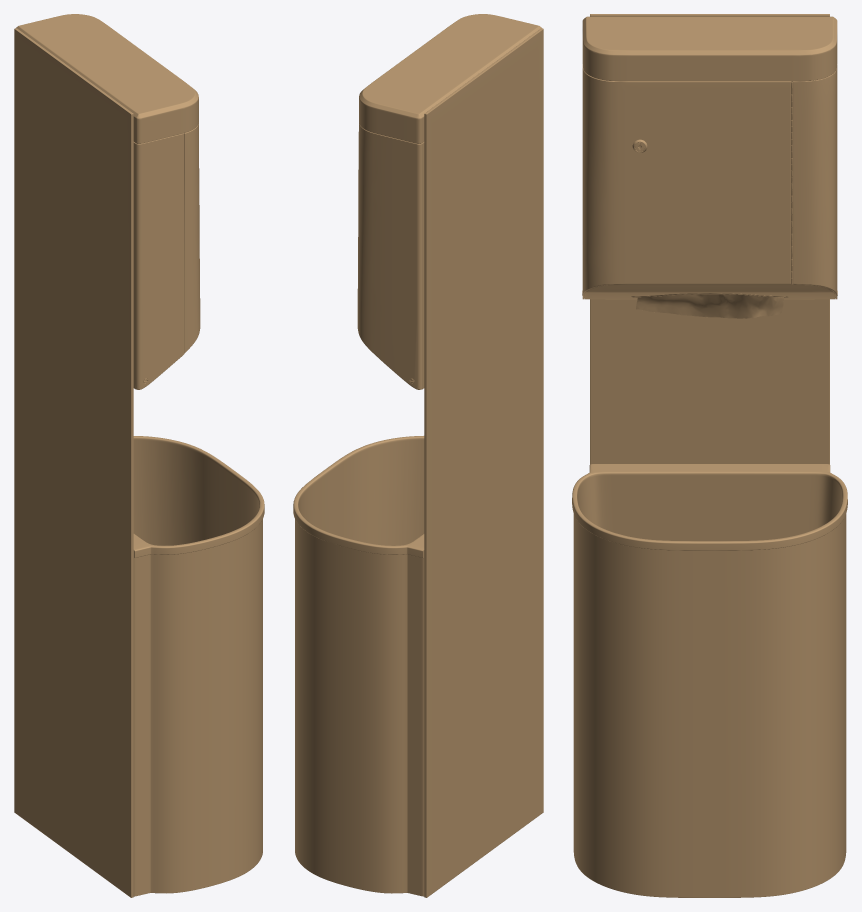
Rendered from fixture_trashBin_withDispenser_a01.glb.
3 views of the same model, side by side, from view 1: azimuth 30°, elevation 25°; view 2: azimuth 150°, elevation 25°; view 3: azimuth 270°, elevation 25° (orthographic). The views are drawn at different scales.
Bounding box in the file's own units: 0.3002 × 1.4 × 0.4343.
